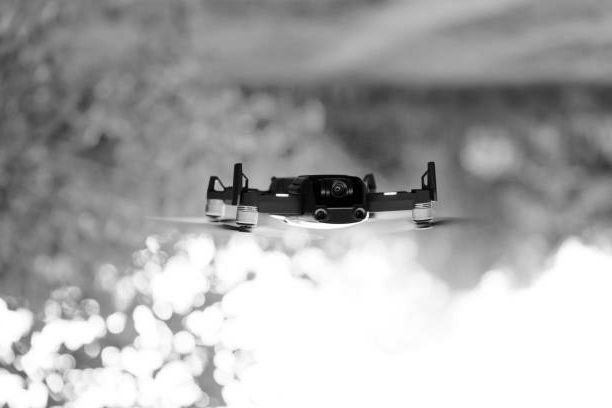Drone: (140, 161, 487, 235)
